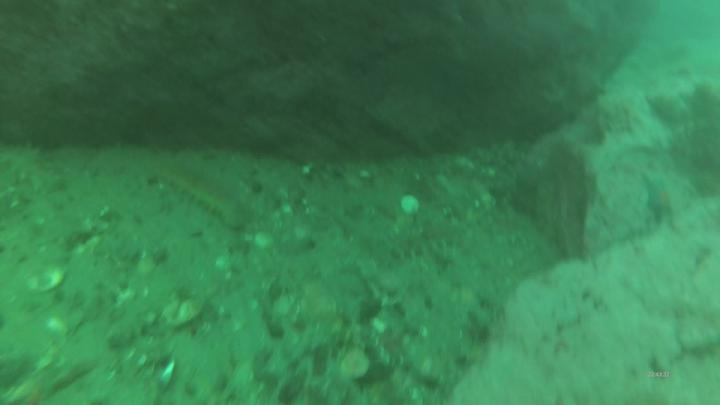holothurian: (160, 171, 248, 236), (387, 216, 467, 261), (1, 143, 66, 196)
starfish: (640, 169, 679, 233)
